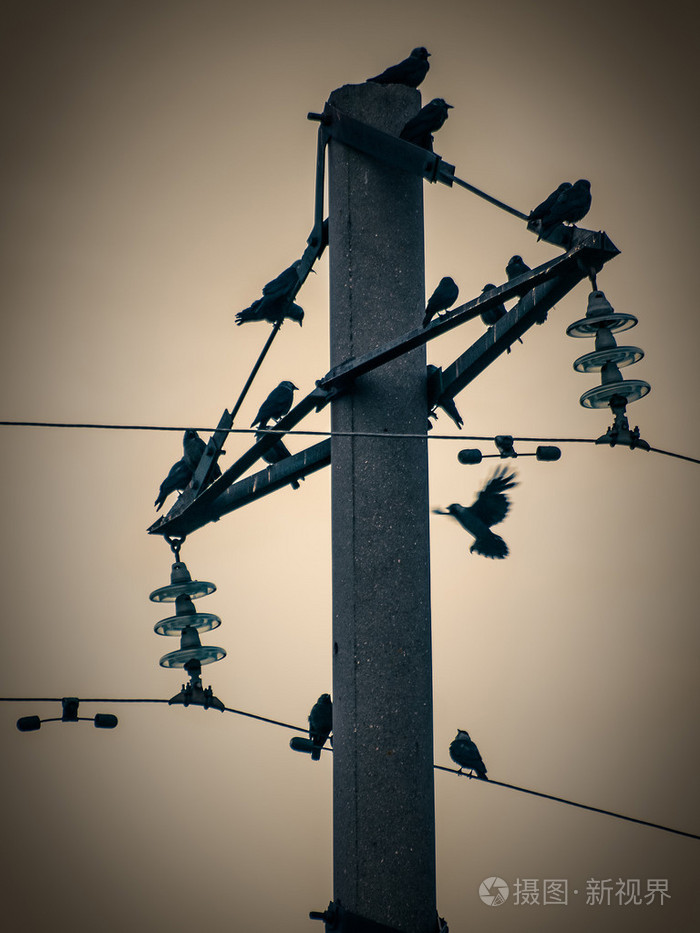insulator: (563, 308, 655, 406), (150, 574, 229, 675)
